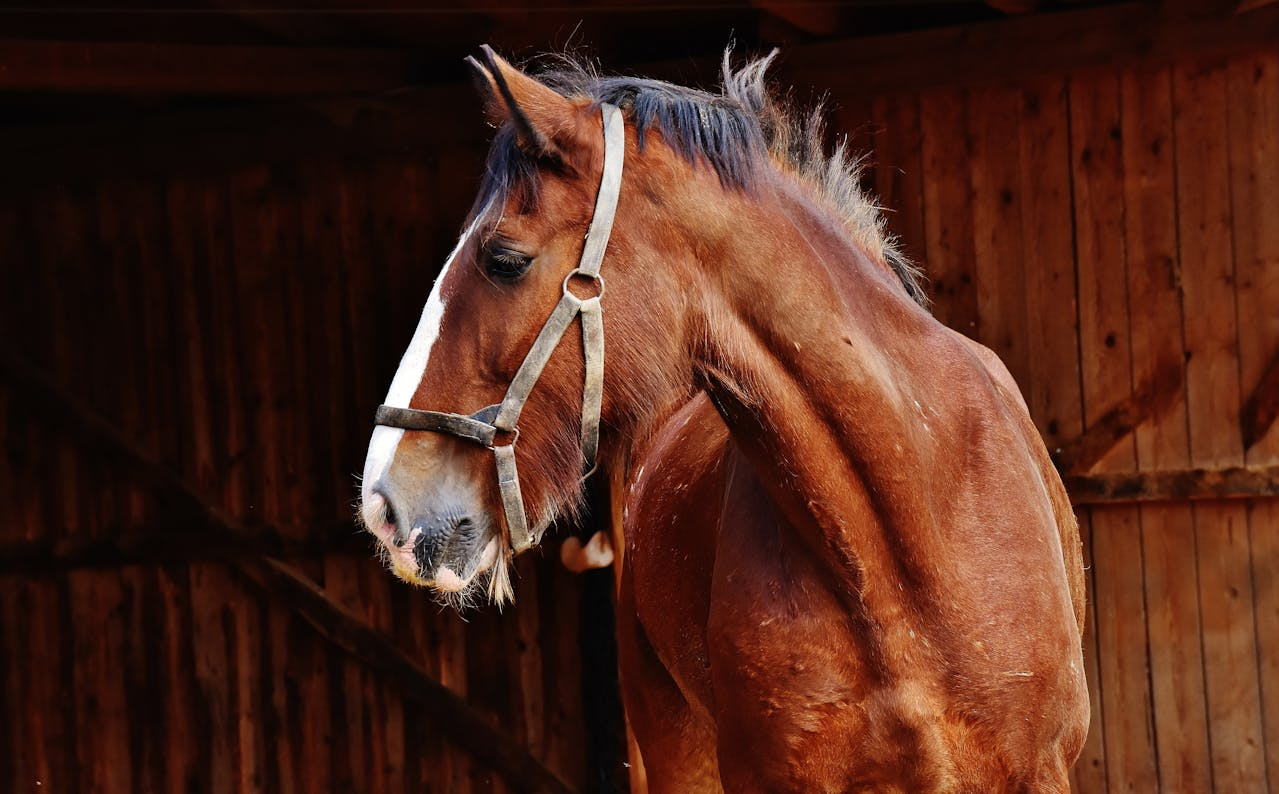horse: (326, 20, 1101, 794)
